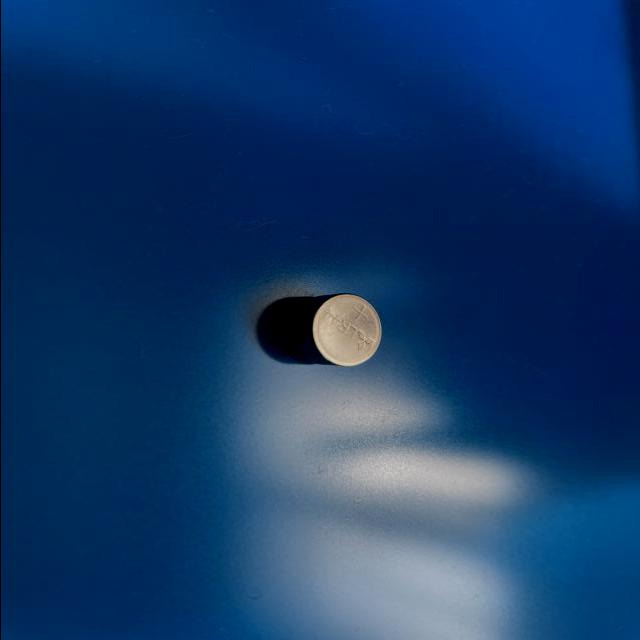COIN: (289, 294, 386, 368)
